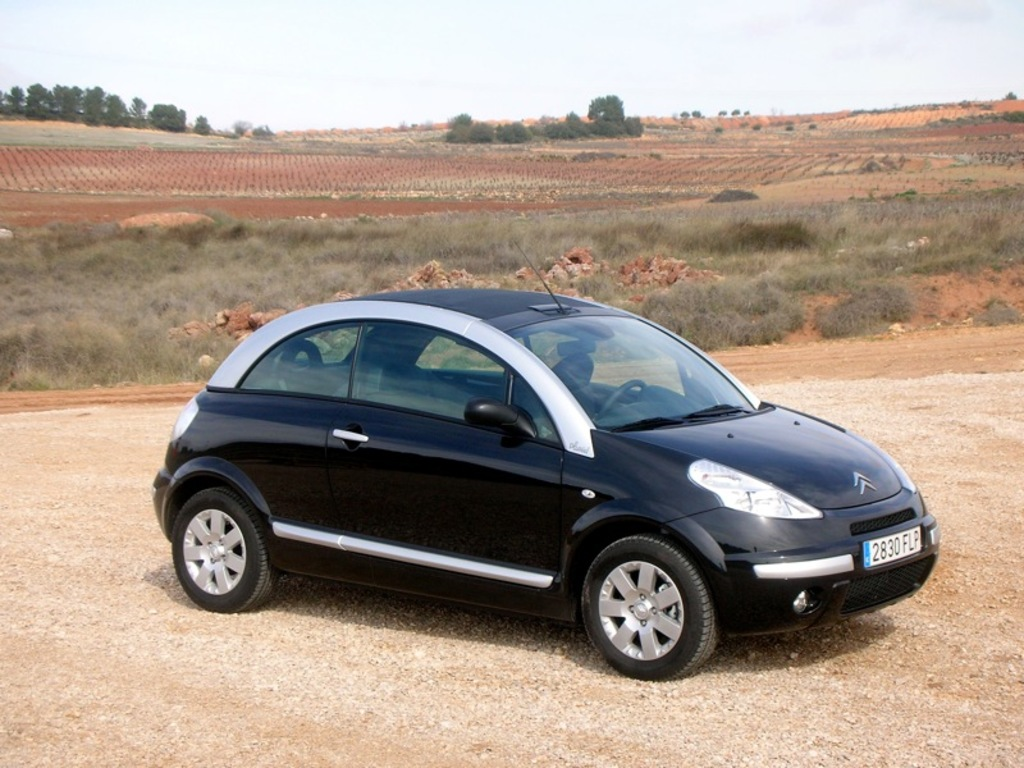Tree: (0, 81, 209, 131), (444, 96, 640, 140), (254, 122, 272, 137), (231, 120, 250, 134), (1004, 91, 1016, 100), (675, 109, 686, 117), (733, 108, 739, 117), (717, 109, 724, 116), (693, 110, 699, 118), (746, 108, 751, 112)
